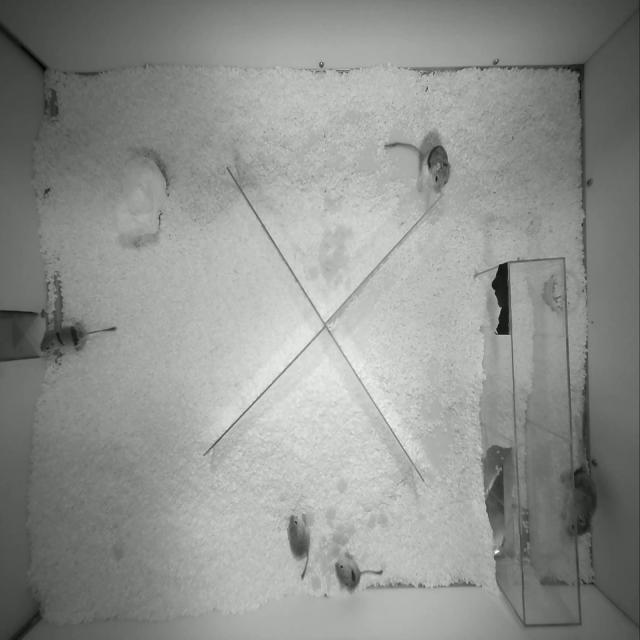adult_back: (566, 467, 596, 535)
adult_front: (385, 142, 450, 191)
pup_fluffy: (288, 515, 310, 579)
pup_h_stripe: (40, 322, 116, 357)
pup_spotted: (334, 551, 383, 591)
